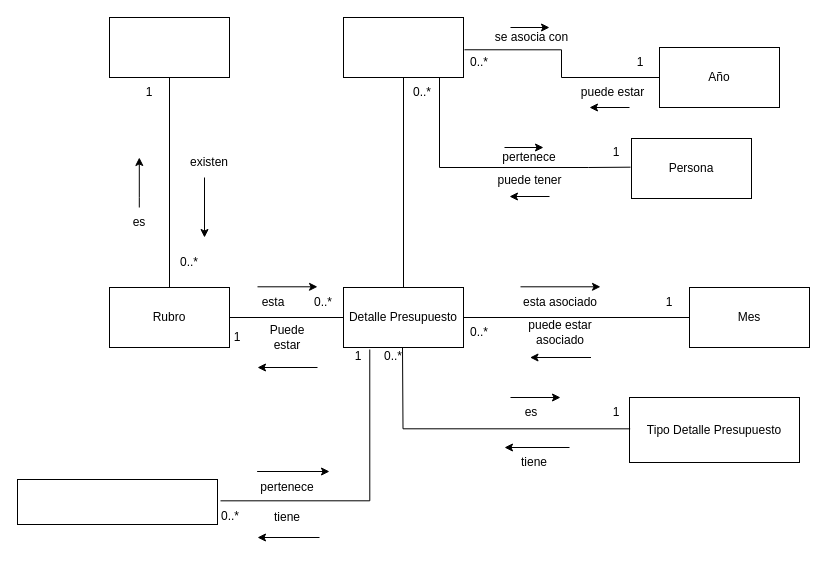
The diagram is 827 pixels wide and 563 high, and some of its shapes have lost their labels. Here are the shapes that lost their labels. From the top down, the box of each, then its label:
(108, 16, 230, 78): Tipo de Rubro
(342, 16, 464, 78): Presupuesto
(16, 478, 218, 524): Ejecución Real Detalle Presupuesto
